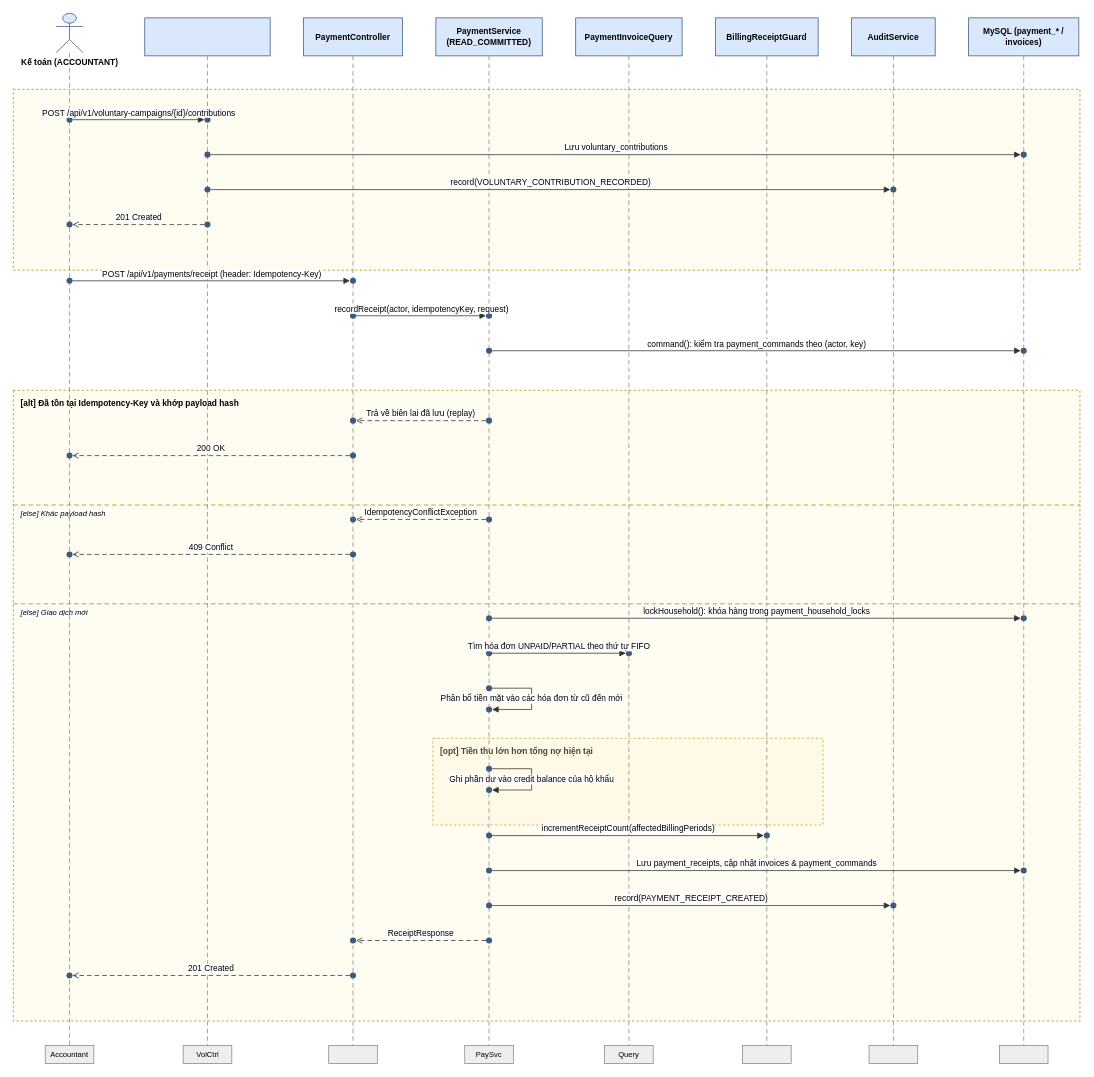
Some shapes in this 1094 by 1077 pixel diagram are drawn without their labels. The box of each missing label's shape, as (x1, y1, x2, y2) in pixels:
[opt] Ghi nhận đóng góp tự nguyện: (13, 89, 1080, 270)
Audit: (868, 1045, 918, 1064)
DB: (999, 1045, 1048, 1064)
Guard: (742, 1045, 791, 1064)
PayCtrl: (328, 1045, 377, 1064)
VoluntaryController & VoluntaryContributionService: (144, 17, 270, 56)
